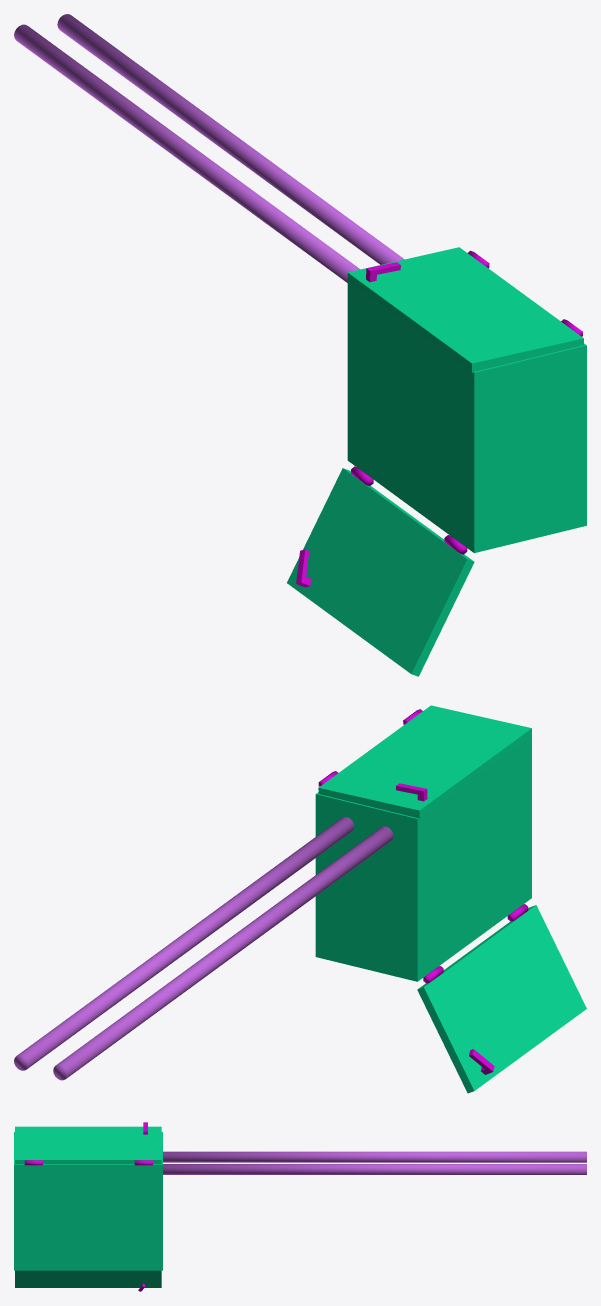
File: ElectricTransferBox.glb
3 renders of one model, top to bottom at view 1: azimuth 30°, elevation 25°; view 2: azimuth 150°, elevation 25°; view 3: azimuth 270°, elevation 25°, orthographic. The views are drawn at different scales.
Visible parts, largest first — view 1: Electricity_Transfer; view 2: Electricity_Transfer; view 3: Electricity_Transfer.
Part boxes in pixels (x1,y1,x2,y2): Electricity_Transfer: (14, 14, 586, 676); Electricity_Transfer: (14, 705, 586, 1093); Electricity_Transfer: (14, 1122, 586, 1291).
Bounding box in the file's own units: 41.06 × 66.79 × 187.
